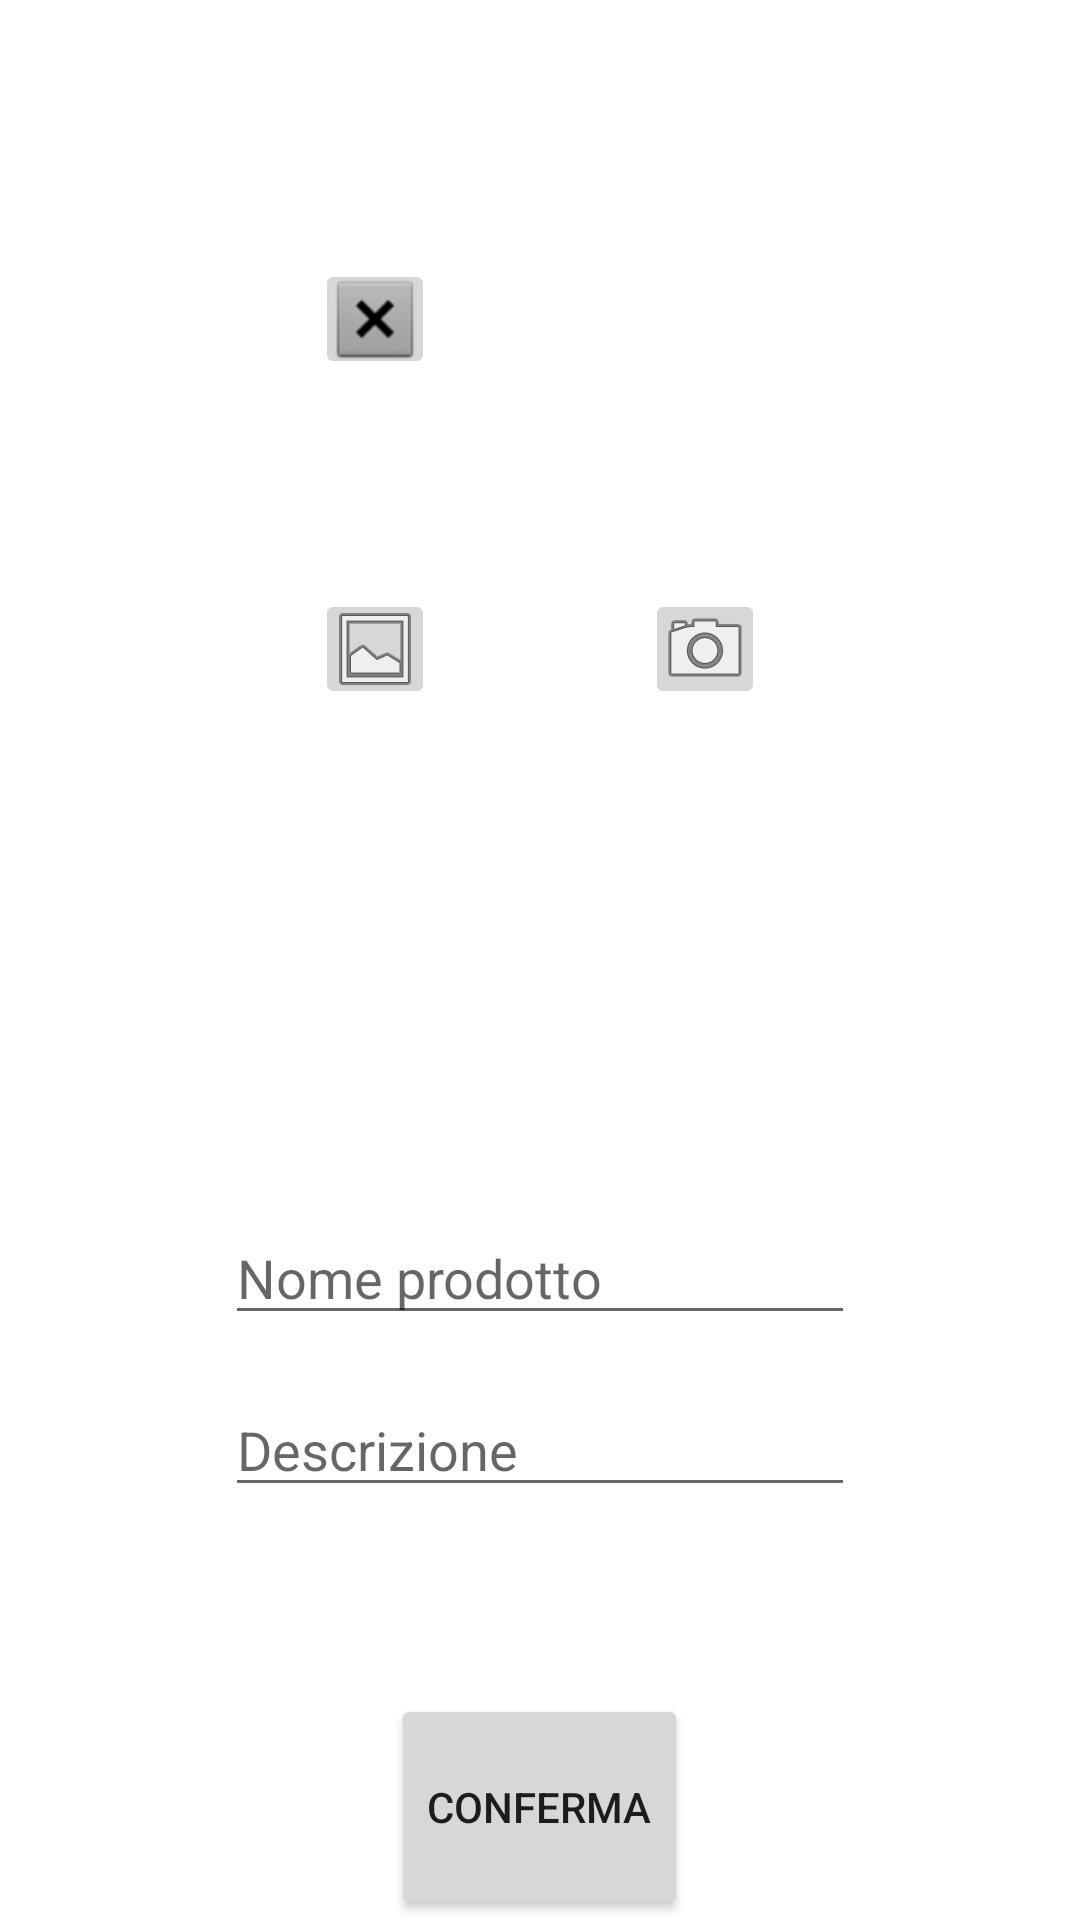

Icons on this 1080 × 1920 Android screen, each with its box as (x1, y1, x2, y2):
camera: (657, 607, 753, 691)
gallery: (327, 607, 423, 691)
